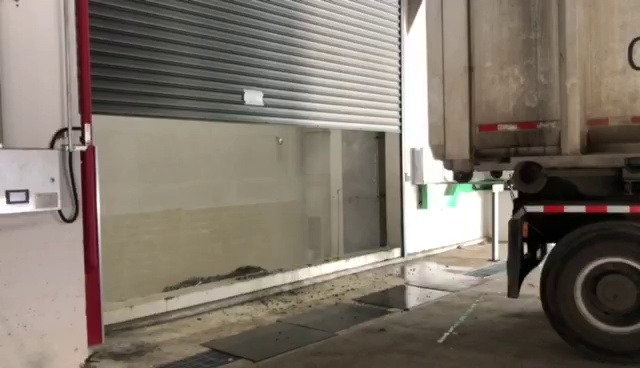truck: (416, 0, 640, 358)
